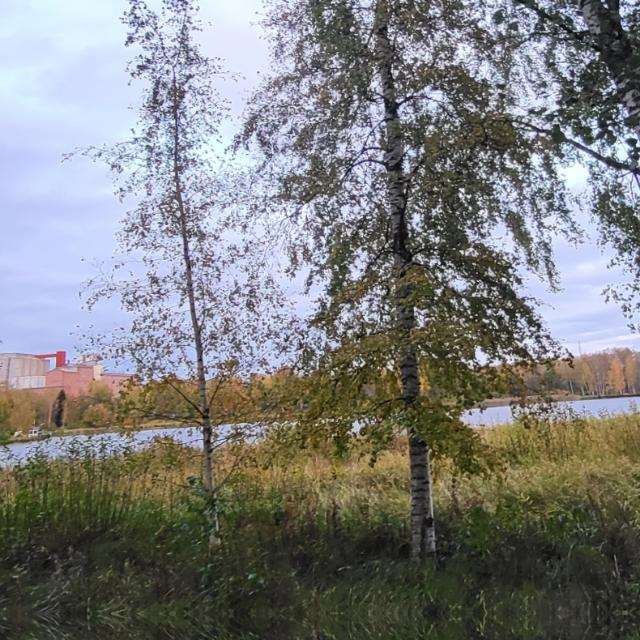birch: (330, 1, 494, 570), (137, 0, 247, 550)
